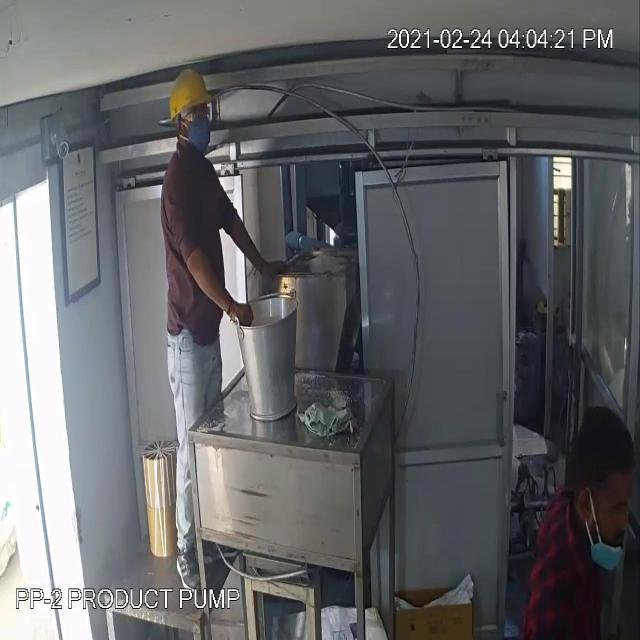helmet: (167, 68, 215, 113)
no-helmet: (557, 396, 639, 524)
